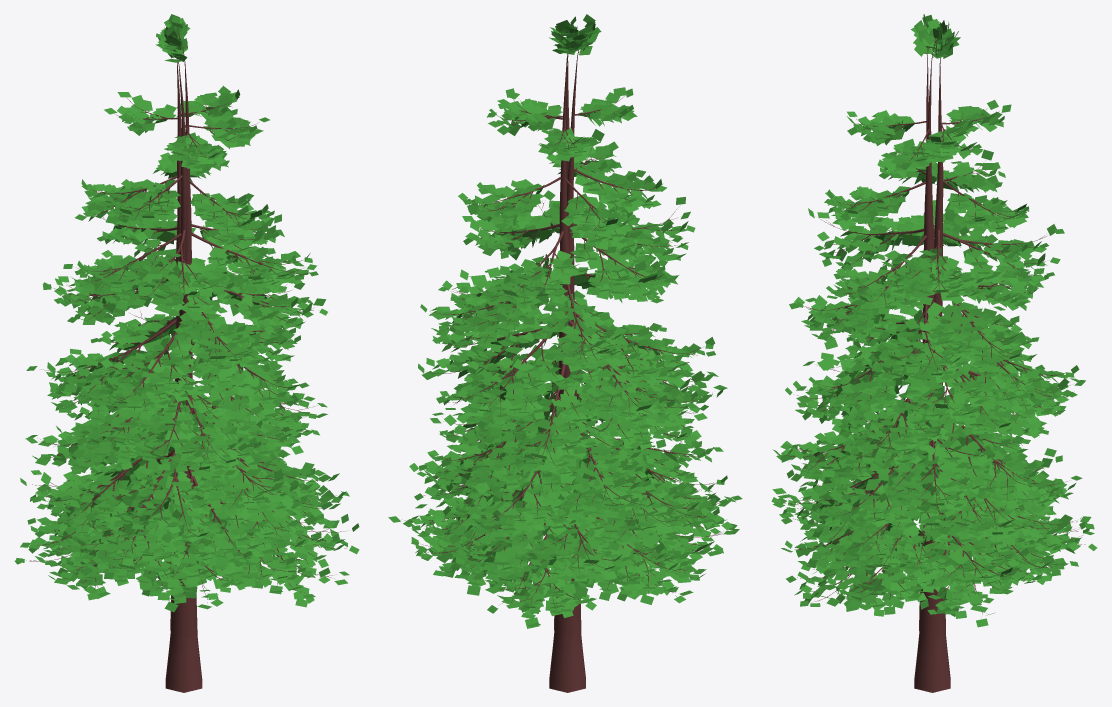
Rendered from elki-palki.fbx.
3 views of the same model, side by side, from view 1: azimuth 30°, elevation 25°; view 2: azimuth 150°, elevation 25°; view 3: azimuth 270°, elevation 25° (orthographic).
Visible parts, largest first — view 1: leaves.001, tree; view 2: leaves.001, tree; view 3: leaves.001, tree.
Boxes of the visible parts, left/top/right/bottom form: leaves.001: left=15, top=14, right=359, bottom=612; tree: left=26, top=28, right=346, bottom=692; leaves.001: left=388, top=14, right=742, bottom=628; tree: left=404, top=31, right=722, bottom=692; leaves.001: left=771, top=14, right=1097, bottom=627; tree: left=783, top=24, right=1085, bottom=692.
Bounding box in the file's own units: 4.71 × 10.43 × 4.65.
